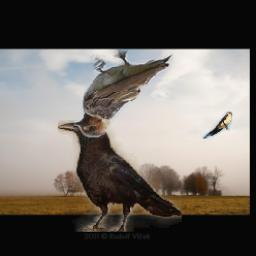Crow: (58, 121, 182, 233)
Swallow: (74, 50, 173, 139), (203, 112, 233, 139)
